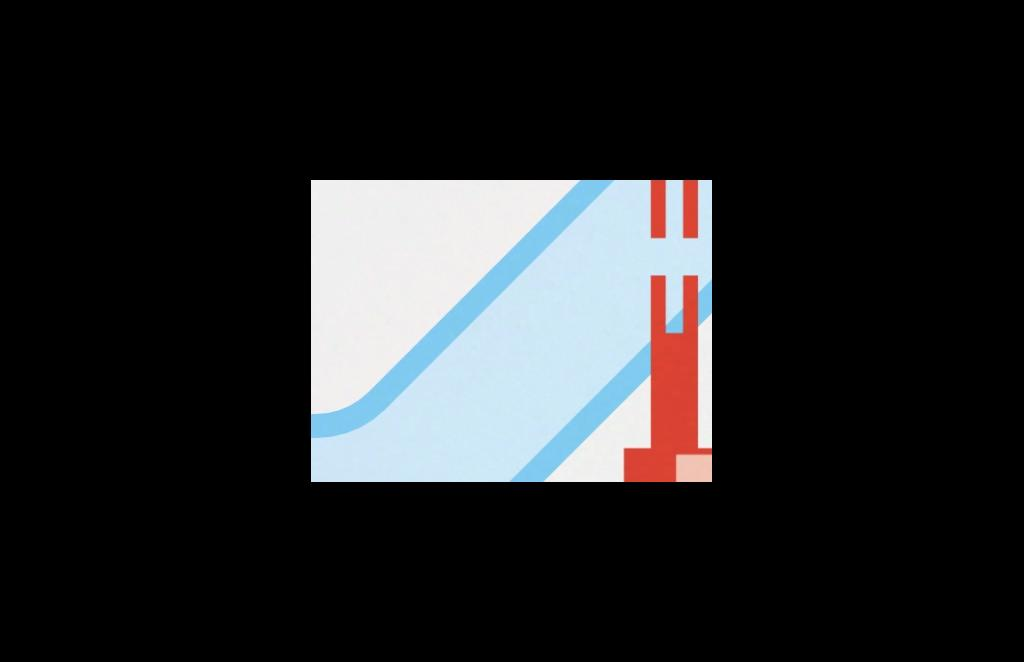train: (602, 427, 712, 482)
tunnel: (592, 180, 712, 399)
